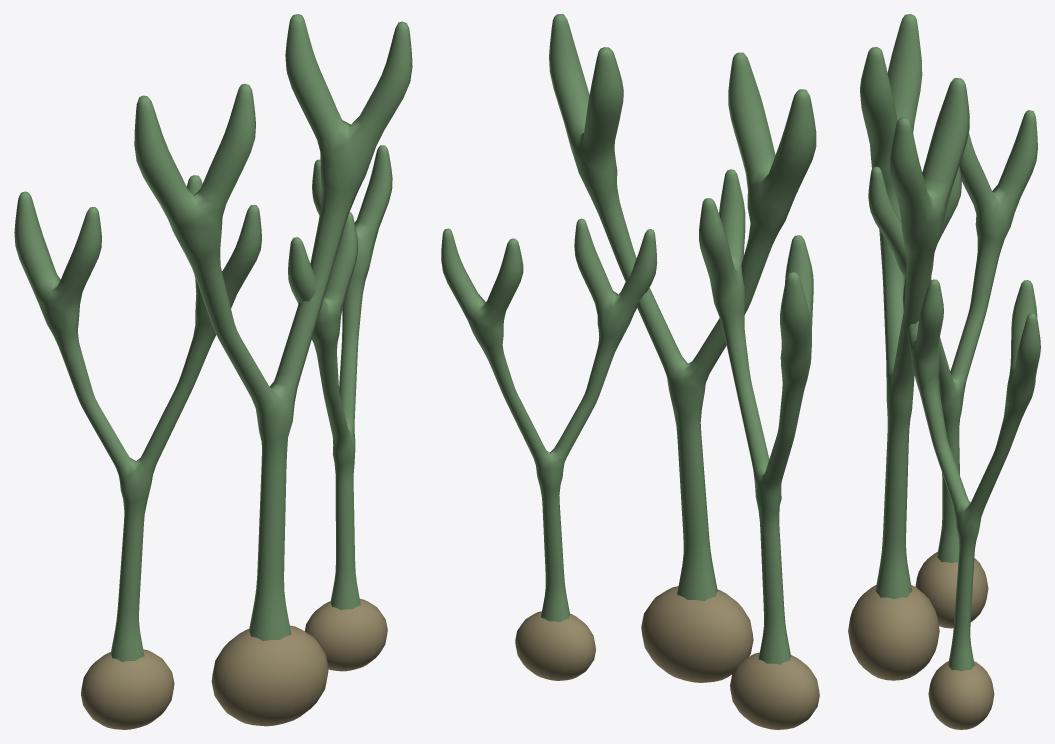
File: horneophyton.glb
3 renders of one model, left to right at view 1: azimuth 30°, elevation 25°; view 2: azimuth 150°, elevation 25°; view 3: azimuth 270°, elevation 25°, orthographic. The views are drawn at different scales.
Parts seen in each view (by area): view 1: continuous-forked-sporangial-axis-0, continuous-forked-sporangial-axis-1, readable-swollen-corm-like-bases, continuous-forked-sporangial-axis-2; view 2: continuous-forked-sporangial-axis-0, continuous-forked-sporangial-axis-1, readable-swollen-corm-like-bases, continuous-forked-sporangial-axis-2; view 3: continuous-forked-sporangial-axis-0, continuous-forked-sporangial-axis-1, continuous-forked-sporangial-axis-2, readable-swollen-corm-like-bases.
Boxes of the visible parts, x1=… form: continuous-forked-sporangial-axis-0: x1=134, y1=14, x2=412, y2=641; continuous-forked-sporangial-axis-1: x1=14, y1=175, x2=261, y2=661; readable-swollen-corm-like-bases: x1=81, y1=599, x2=387, y2=729; continuous-forked-sporangial-axis-2: x1=288, y1=145, x2=392, y2=609; continuous-forked-sporangial-axis-0: x1=549, y1=14, x2=816, y2=601; continuous-forked-sporangial-axis-1: x1=699, y1=169, x2=813, y2=664; readable-swollen-corm-like-bases: x1=515, y1=586, x2=819, y2=729; continuous-forked-sporangial-axis-2: x1=441, y1=218, x2=657, y2=622; continuous-forked-sporangial-axis-0: x1=860, y1=14, x2=969, y2=598; continuous-forked-sporangial-axis-1: x1=868, y1=110, x2=1037, y2=563; continuous-forked-sporangial-axis-2: x1=903, y1=277, x2=1040, y2=671; readable-swollen-corm-like-bases: x1=848, y1=552, x2=994, y2=729.
Bounding box in the file's own units: 0.0885 × 0.15 × 0.042.
